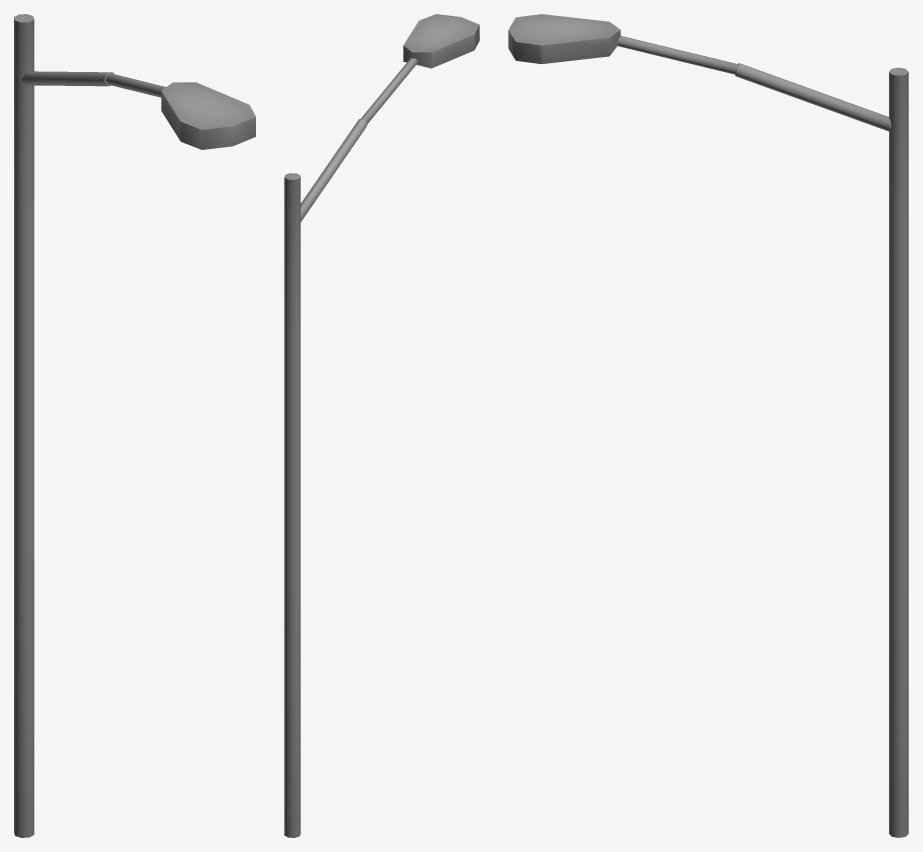
Rendered from BgMD_StreetLight_01.fbx.
3 views of the same model, side by side, from view 1: azimuth 30°, elevation 25°; view 2: azimuth 150°, elevation 25°; view 3: azimuth 270°, elevation 25° (orthographic). The views are drawn at different scales.
Visible parts, largest first — view 1: BgMD_StreetLight_01; view 2: BgMD_StreetLight_01; view 3: BgMD_StreetLight_01.
Part boxes in pixels (x1,y1,x2,y2): BgMD_StreetLight_01: [14, 14, 255, 837]; BgMD_StreetLight_01: [284, 14, 479, 837]; BgMD_StreetLight_01: [508, 14, 908, 837].
Bounding box in the file's own units: 52.04 × 621 × 280.
Materials: 1 (1 with a texture image).
